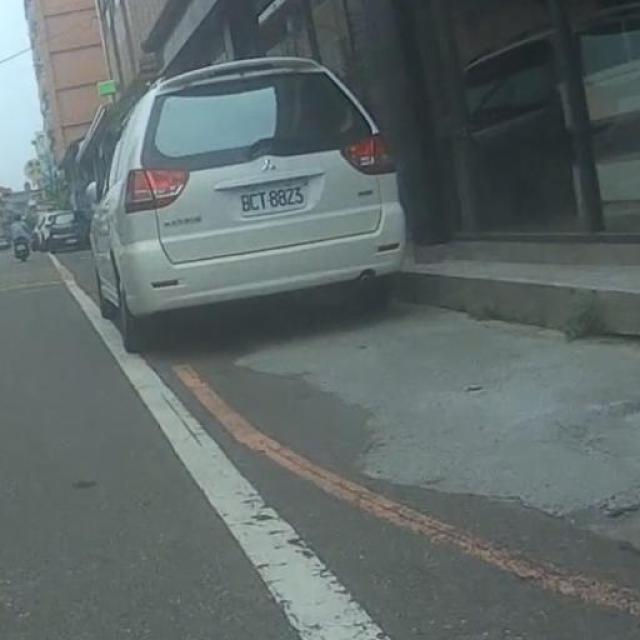illegalparking: (75, 11, 414, 430)
